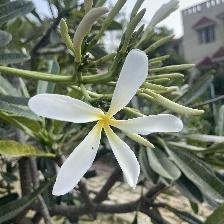champaka: (28, 48, 186, 202)
